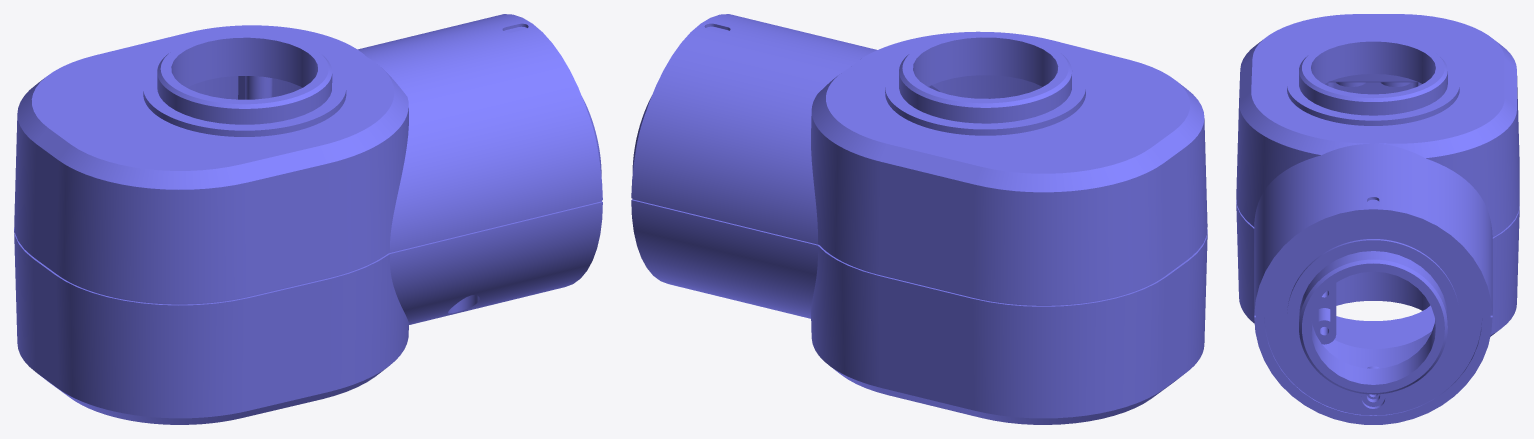
3 renders of one model, left to right at view 1: azimuth 30°, elevation 25°; view 2: azimuth 150°, elevation 25°; view 3: azimuth 270°, elevation 25°, orthographic. The views are drawn at different scales.
Visible parts, largest first — view 1: Brep (×2); view 2: Brep (×2); view 3: Brep (×2).
Part boxes in pixels (box(x1,y1,x2,y2)): Brep (×2): box(14, 14, 602, 424); Brep (×2): box(631, 14, 1207, 424); Brep (×2): box(1236, 14, 1519, 424).
Size of the model in its own units: 84.42 by 47.59 by 48.
